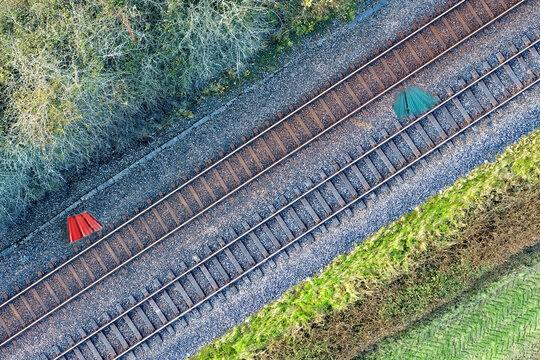Color_steel: (391, 74, 439, 124), (59, 209, 103, 246)
